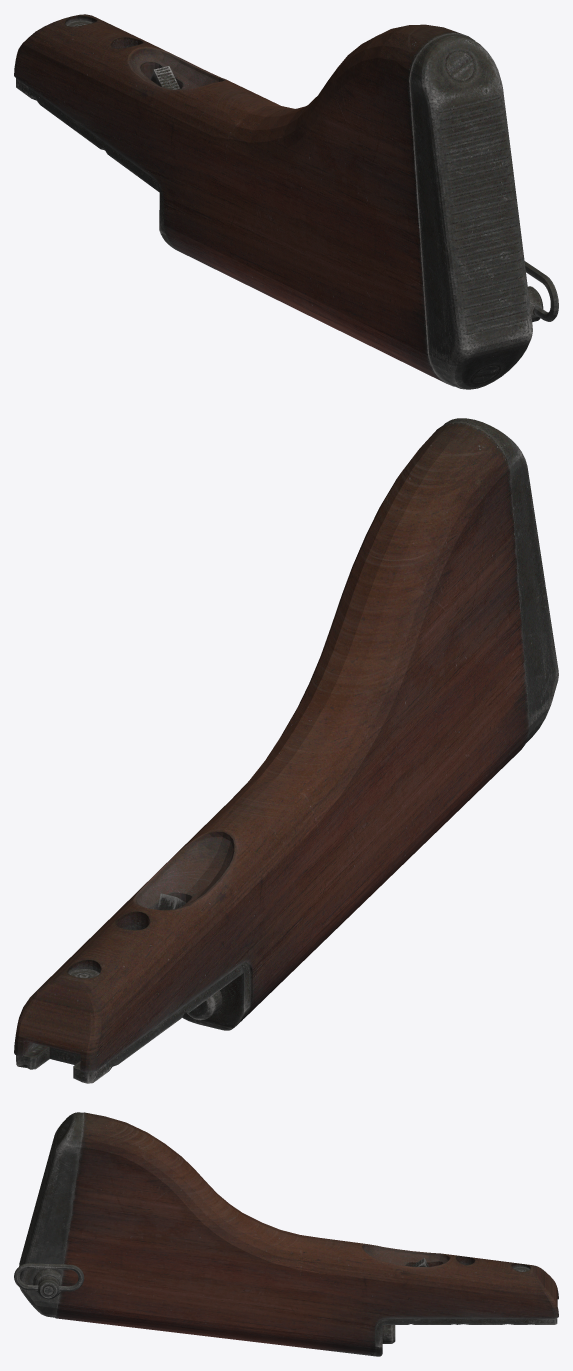
3 renders of one model, top to bottom at view 1: azimuth 30°, elevation 25°; view 2: azimuth 150°, elevation 25°; view 3: azimuth 270°, elevation 25°, orthographic. The views are drawn at different scales.
Parts seen in each view (by area): view 1: TW_6698c9ed36ba38d291017713_PZ_Import; view 2: TW_6698c9ed36ba38d291017713_PZ_Import; view 3: TW_6698c9ed36ba38d291017713_PZ_Import.
Boxes of the visible parts, x1,y1,x2,y2 form: TW_6698c9ed36ba38d291017713_PZ_Import: (14, 14, 558, 389); TW_6698c9ed36ba38d291017713_PZ_Import: (14, 418, 558, 1083); TW_6698c9ed36ba38d291017713_PZ_Import: (14, 1112, 558, 1356).
Size of the model in its own units: 0.0229 by 0.1799 by 0.0871.
1 material, 1 textured.
